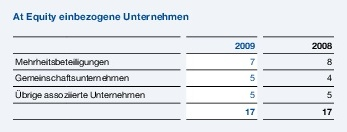table: (0, 0, 347, 132)
